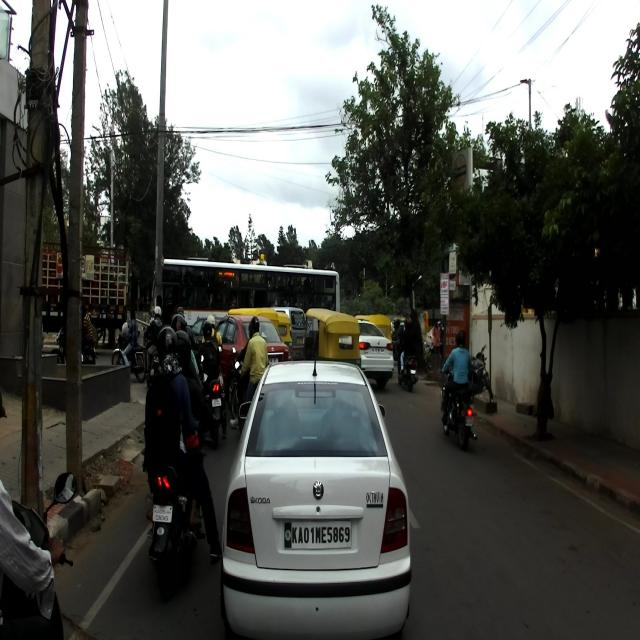Car_Maruti-Suzuki: (213, 313, 293, 385)
Car_Skoda: (200, 354, 418, 639)
autorickshaw: (293, 307, 354, 369)
bus: (152, 251, 340, 344)
motorcycle_RoyalEnfield: (439, 354, 478, 451)
motorcycle_bajaj: (141, 414, 217, 599), (202, 371, 226, 451)
scooter: (397, 344, 421, 390)
